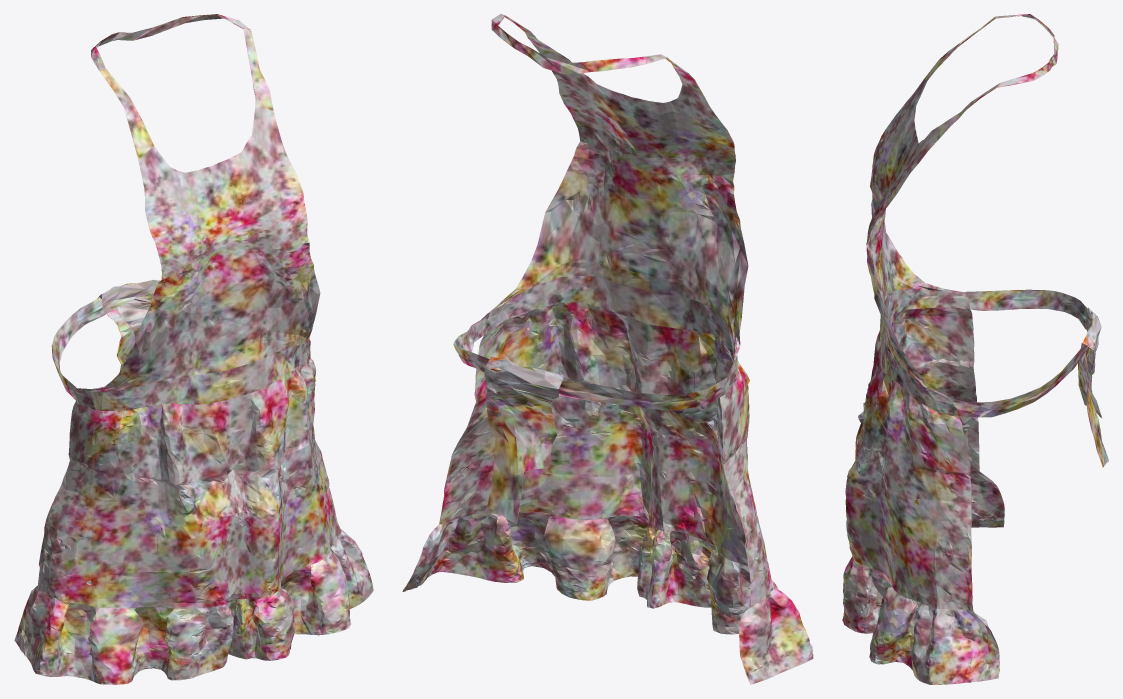
The model's file is mhw_elvs_ladies_apron.glb.
3 views of the same model, side by side, from view 1: azimuth 30°, elevation 25°; view 2: azimuth 150°, elevation 25°; view 3: azimuth 270°, elevation 25° (orthographic). The views are drawn at different scales.
Visible parts, largest first — view 1: mhw_elvs_ladies_apron; view 2: mhw_elvs_ladies_apron; view 3: mhw_elvs_ladies_apron.
Boxes of the visible parts, x1,y1,x2,y2 form: mhw_elvs_ladies_apron: [14, 14, 373, 684]; mhw_elvs_ladies_apron: [402, 14, 813, 684]; mhw_elvs_ladies_apron: [842, 14, 1108, 684].
Size of the model in its own units: 0.4556 by 0.7296 by 0.3091.
1 material, 1 textured.
